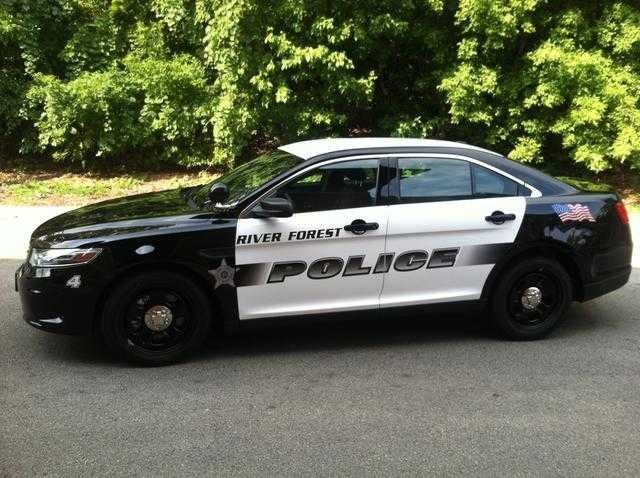Police Car: (18, 132, 636, 364)
